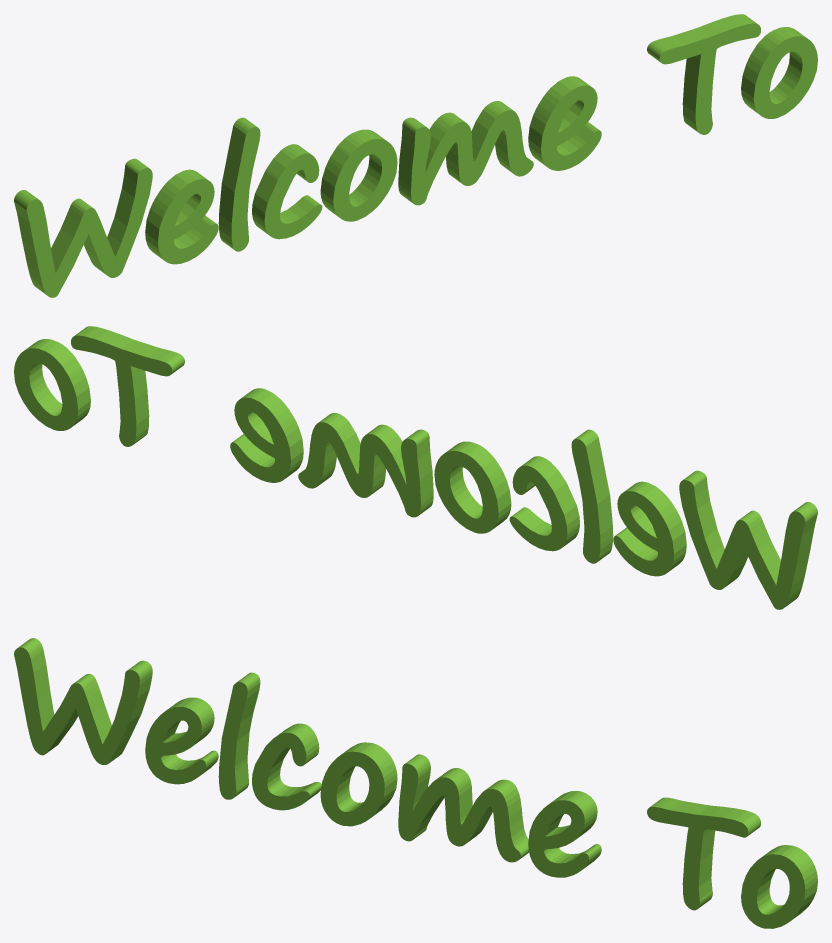
Rendered from WelcomeTo.fbx.
The picture shows the model from 3 angles, top to bottom: view 1: azimuth 30°, elevation 25°; view 2: azimuth 150°, elevation 25°; view 3: azimuth 330°, elevation 25°; orthographic projection.
Parts seen in each view (by area): view 1: curve1; view 2: curve1; view 3: curve1.
Boxes of the visible parts, <box> form: curve1: <box>14,14,817,297</box>; curve1: <box>14,326,817,609</box>; curve1: <box>14,638,817,928</box>.
Size of the model in its own units: 58.58 by 8.62 by 1.64.
Materials: 1 (1 with a texture image).
